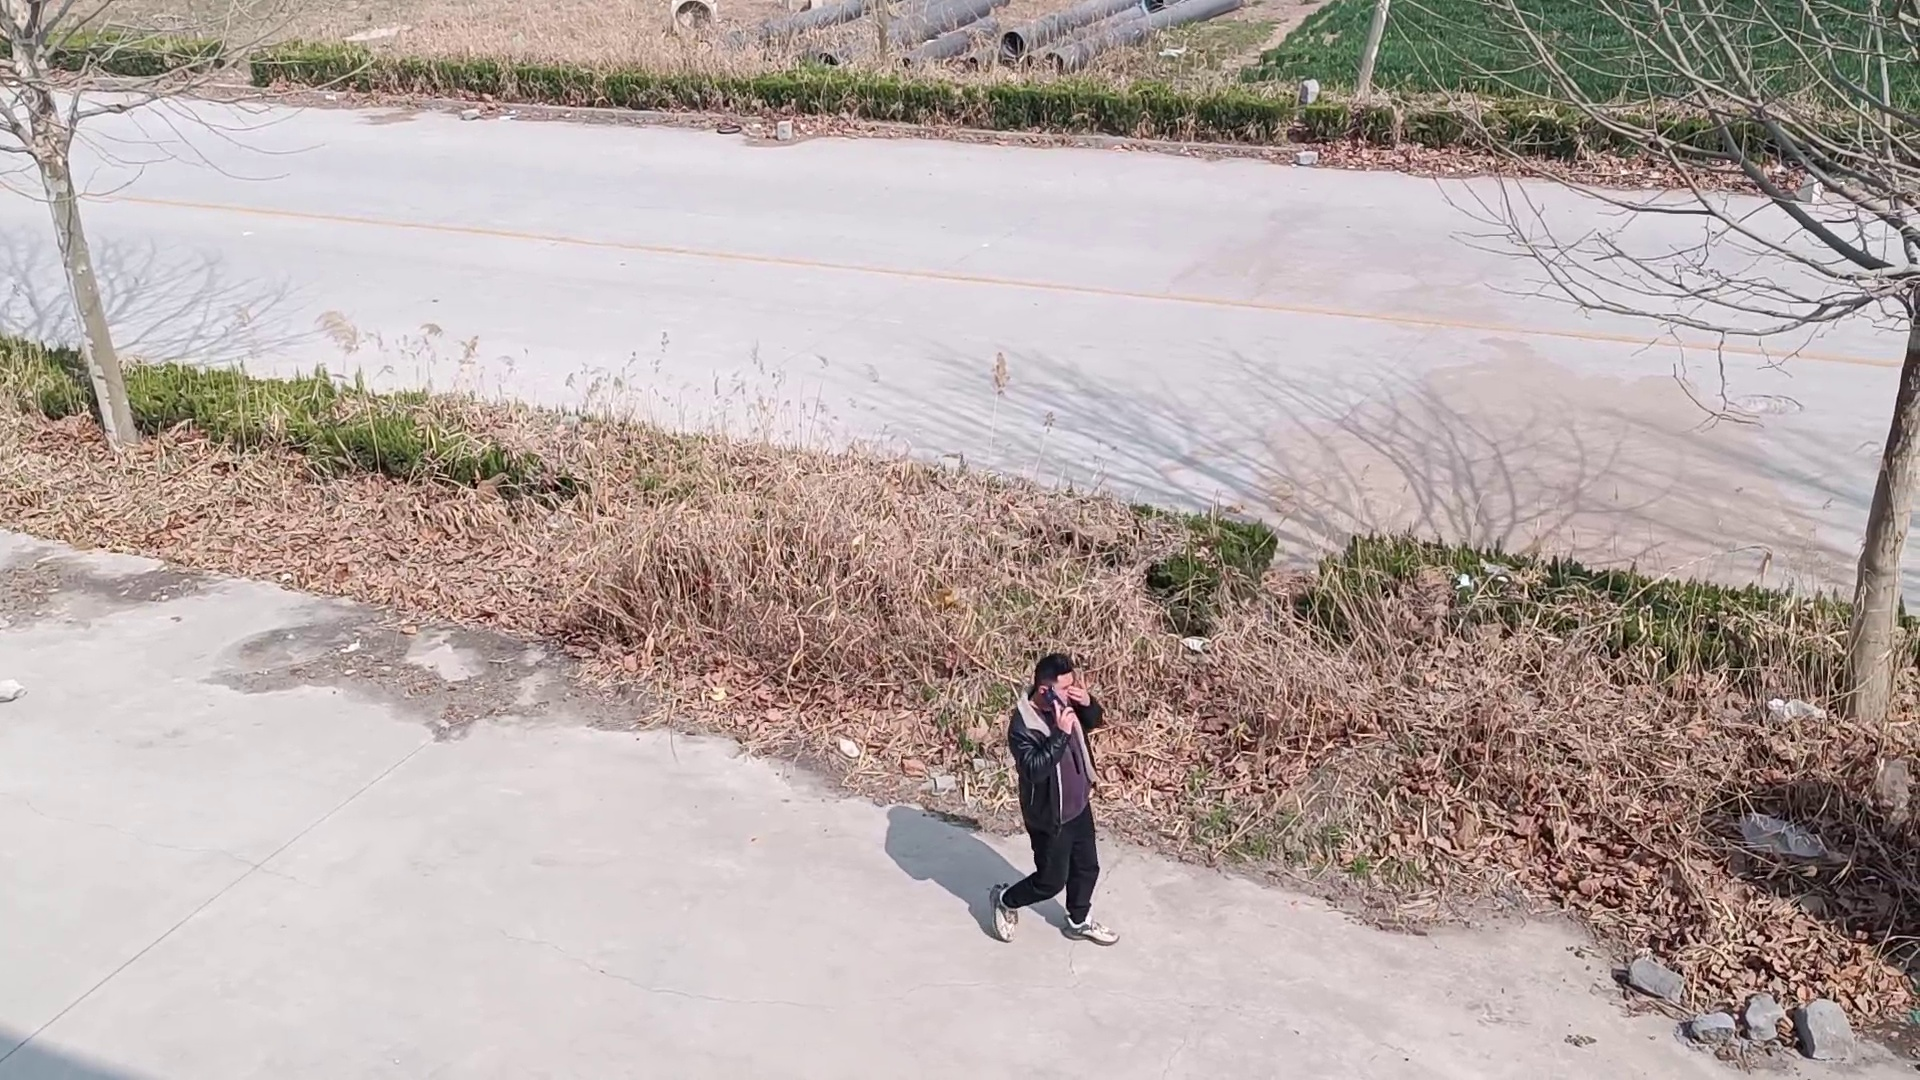phone: (1019, 644, 1081, 723)
